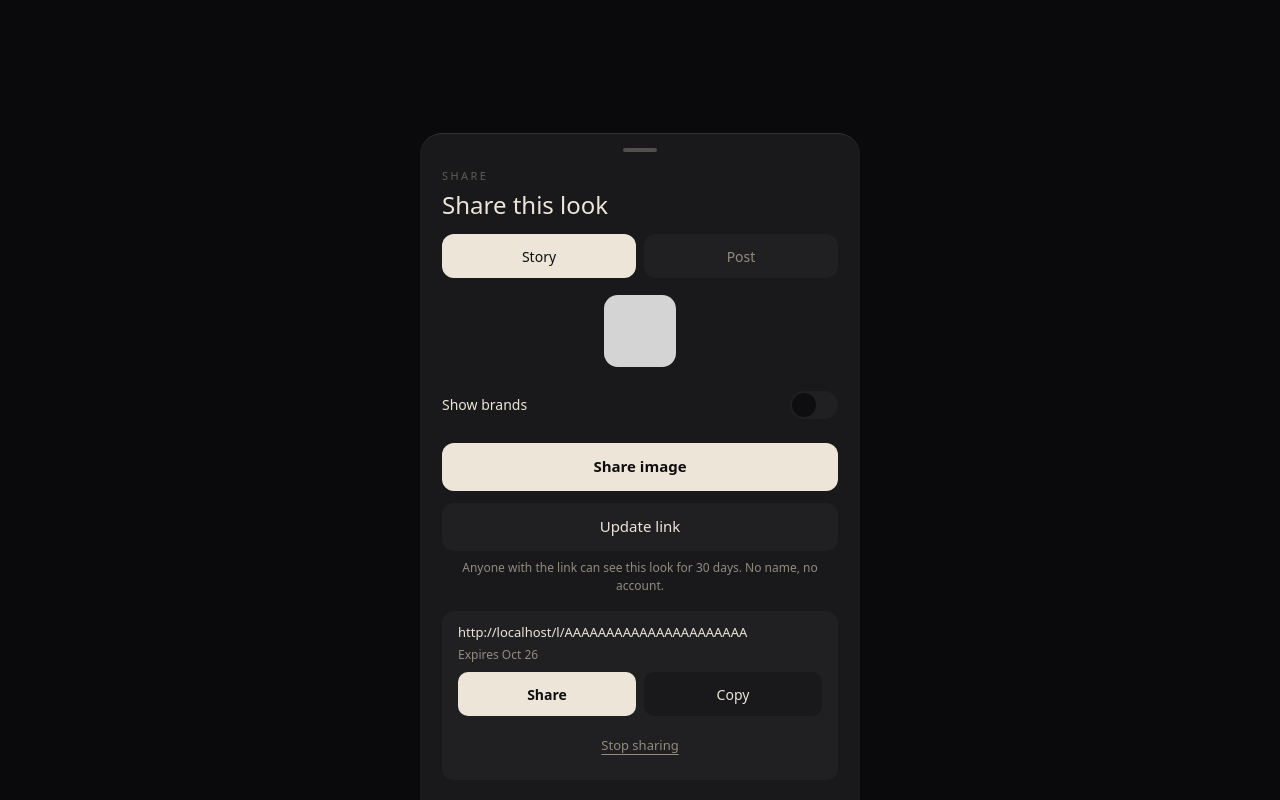
Test: a failed copy says how to copy by hand, next to the link
Check: the button "Share image" is enabled, box [442,442,838,490]
Check: the text "http://localhost/l/AAAAAAAAAAAAAAAAAAAAAA" is shown, box [458,622,747,640]
Click the button "Copy": [733, 694] box [644,672,822,716]
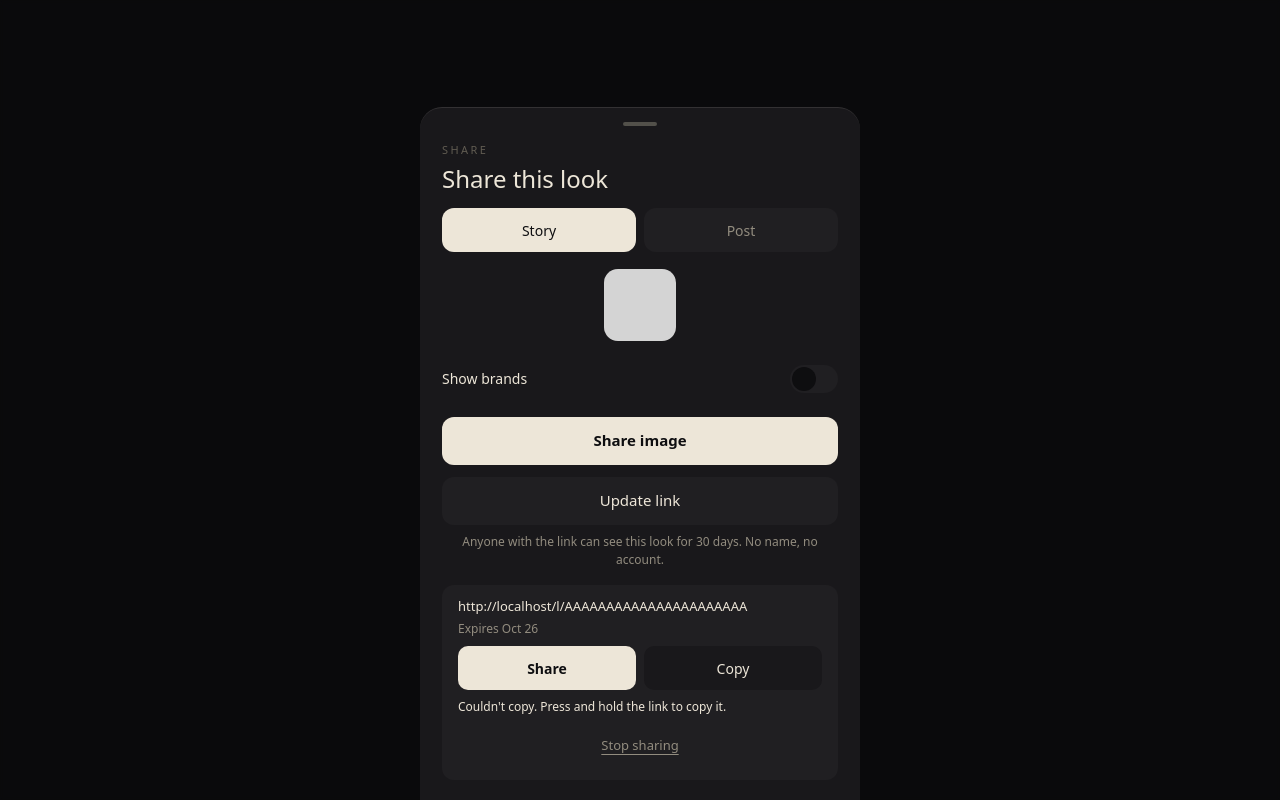
Check: the text "Couldn't copy. Press and hold the link to copy it." is shown, box [458,698,726,715]
